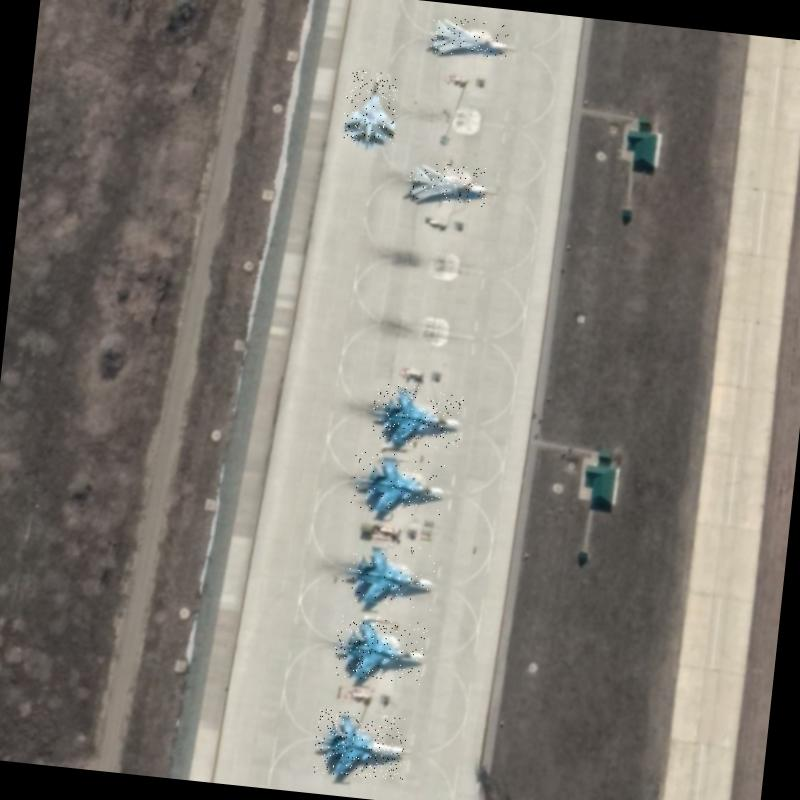A1: (340, 69, 401, 145)
A19: (312, 708, 408, 781), (332, 614, 429, 685), (349, 450, 448, 519), (340, 539, 436, 610), (370, 382, 464, 450)
A20: (407, 160, 489, 207), (428, 14, 511, 60)
